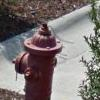Hydrant: (10, 19, 60, 97)
